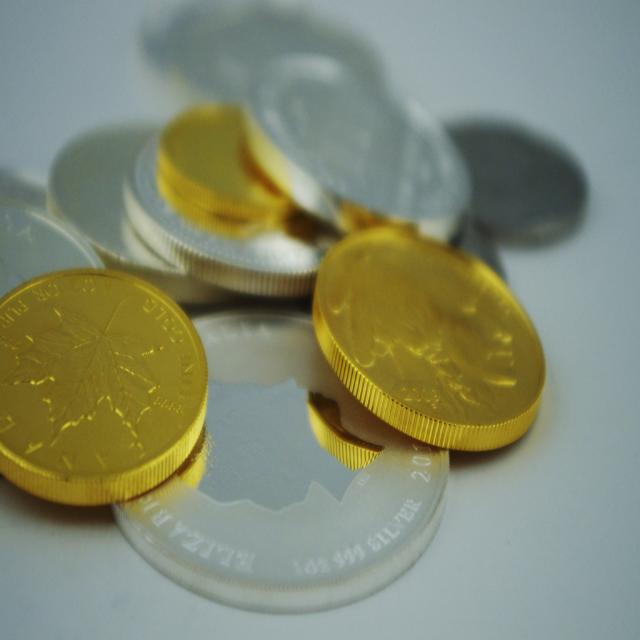Coin: (0, 0, 584, 609), (0, 265, 210, 513)
